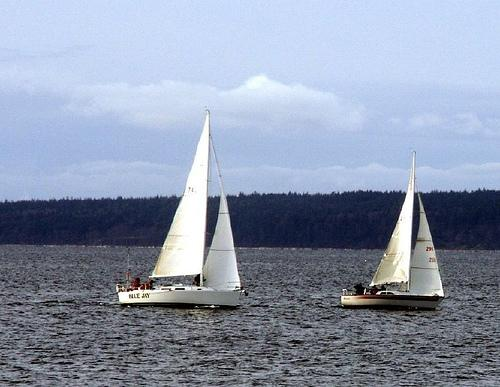Ship: (118, 112, 245, 307), (342, 151, 446, 309)
